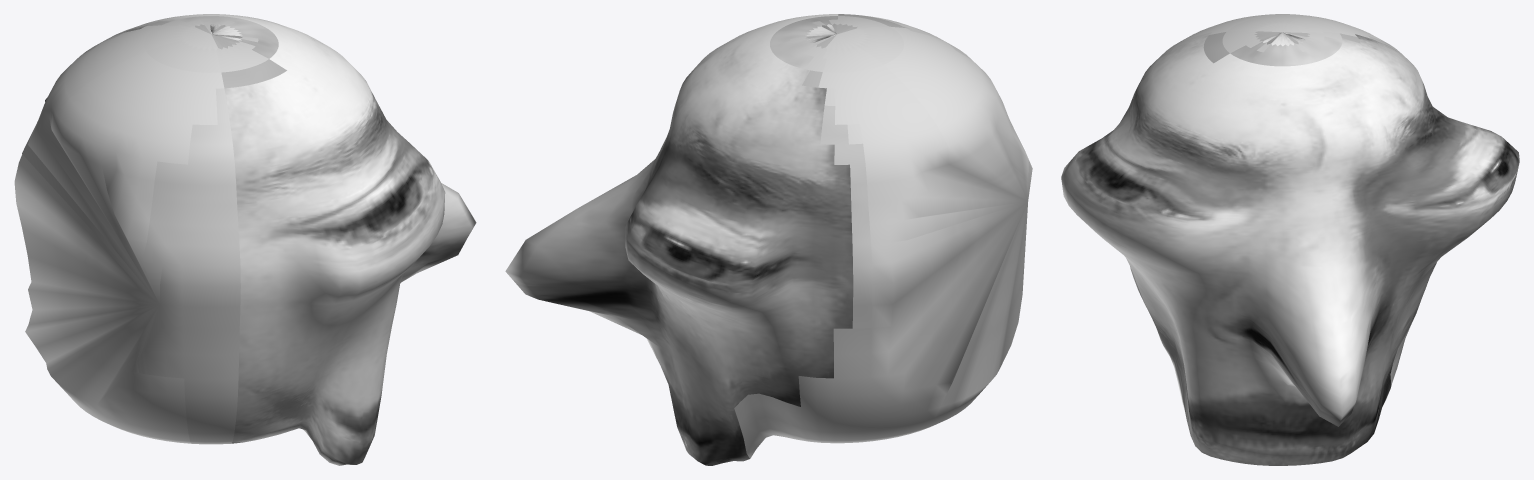
The model's file is GOLOVA.fbx.
The picture shows the model from 3 angles, left to right: view 1: azimuth 30°, elevation 25°; view 2: azimuth 150°, elevation 25°; view 3: azimuth 270°, elevation 25°; orthographic projection. The views are drawn at different scales.
Parts seen in each view (by area): view 1: Plane.001; view 2: Plane.001; view 3: Plane.001.
Part boxes in pixels (<box>): Plane.001: <box>14,14,476,465</box>; Plane.001: <box>505,14,1032,465</box>; Plane.001: <box>1061,14,1519,465</box>.
Bounding box in the file's own units: 222 × 200 × 220.
1 material, 1 textured.
